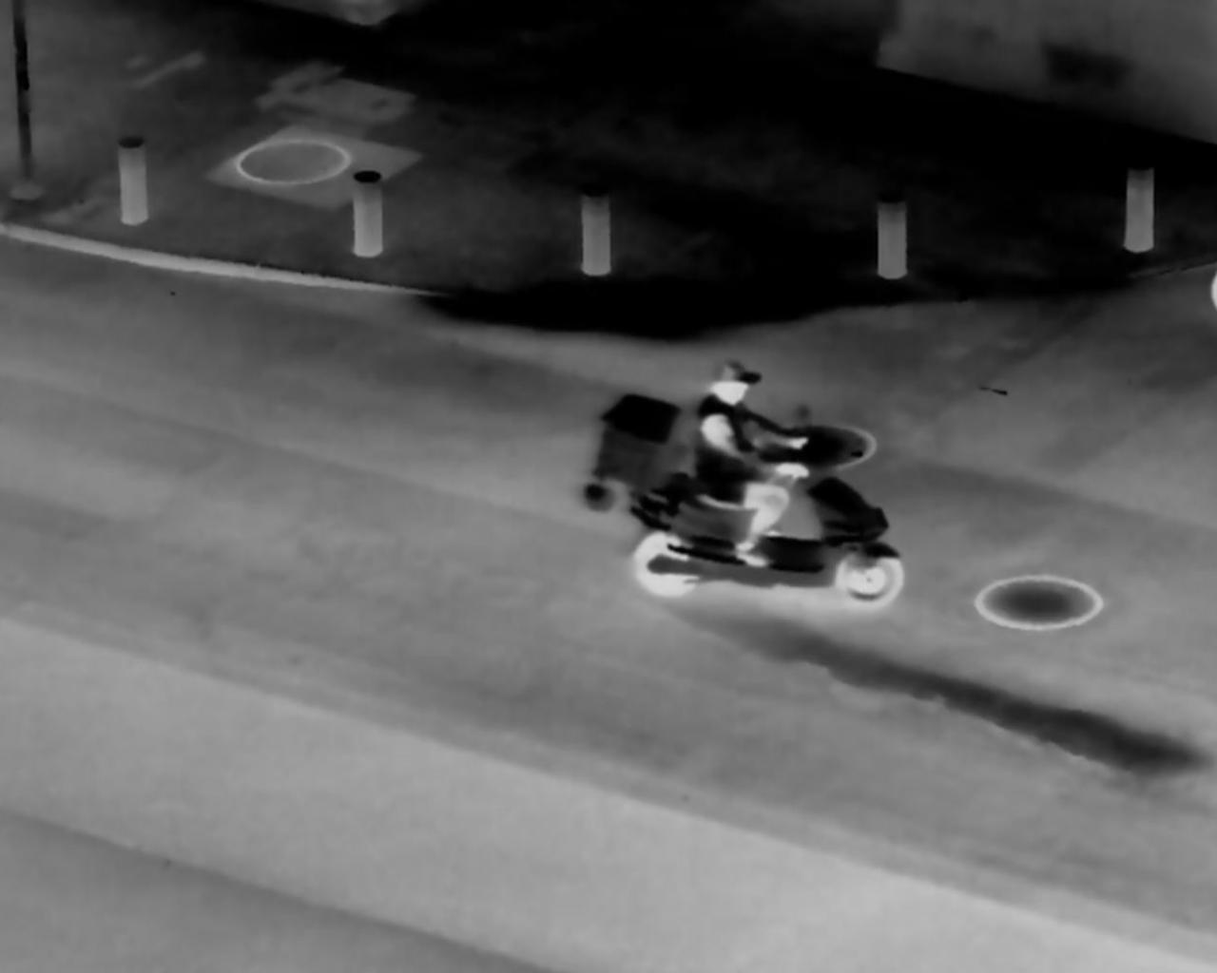person: (685, 340, 805, 568)
